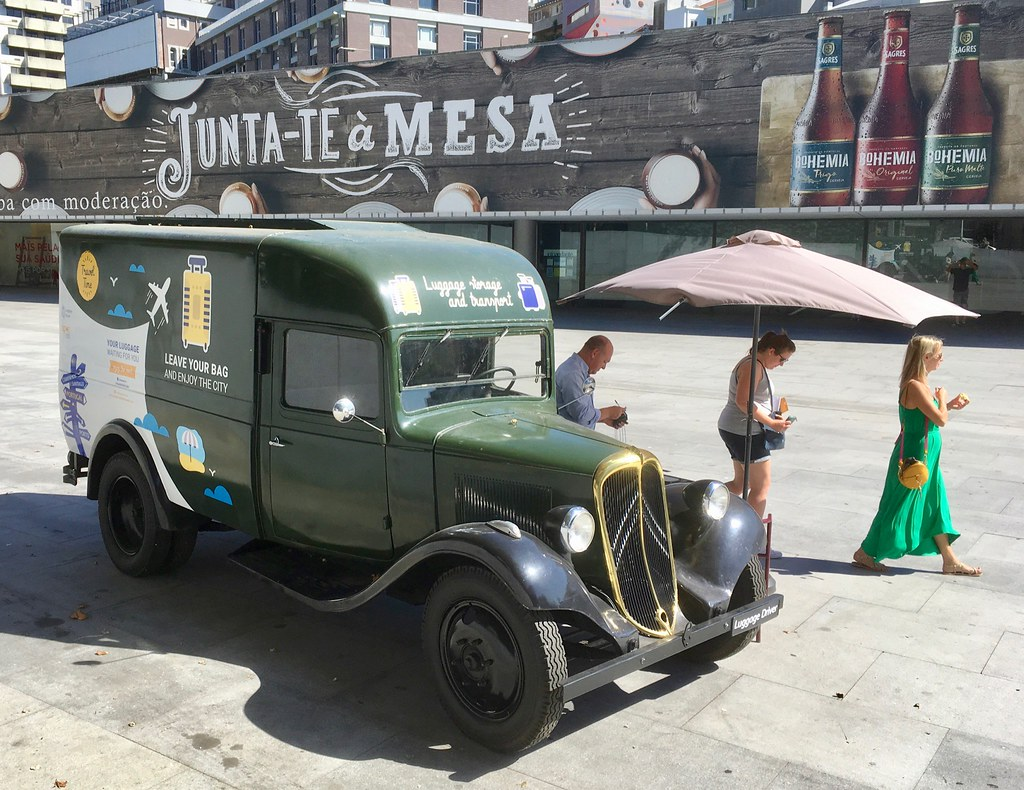car: (36, 192, 778, 786)
person: (876, 319, 977, 605)
